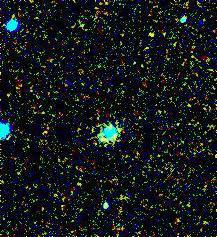star: (132, 22, 162, 52)
